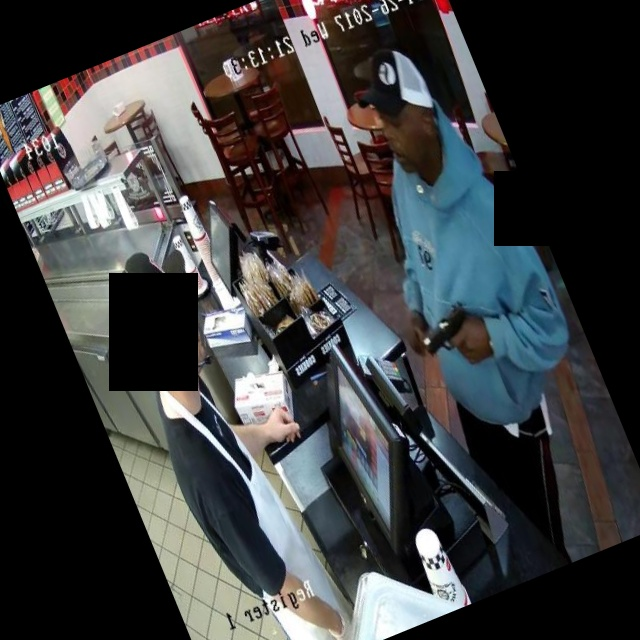gun: (399, 280, 496, 371)
